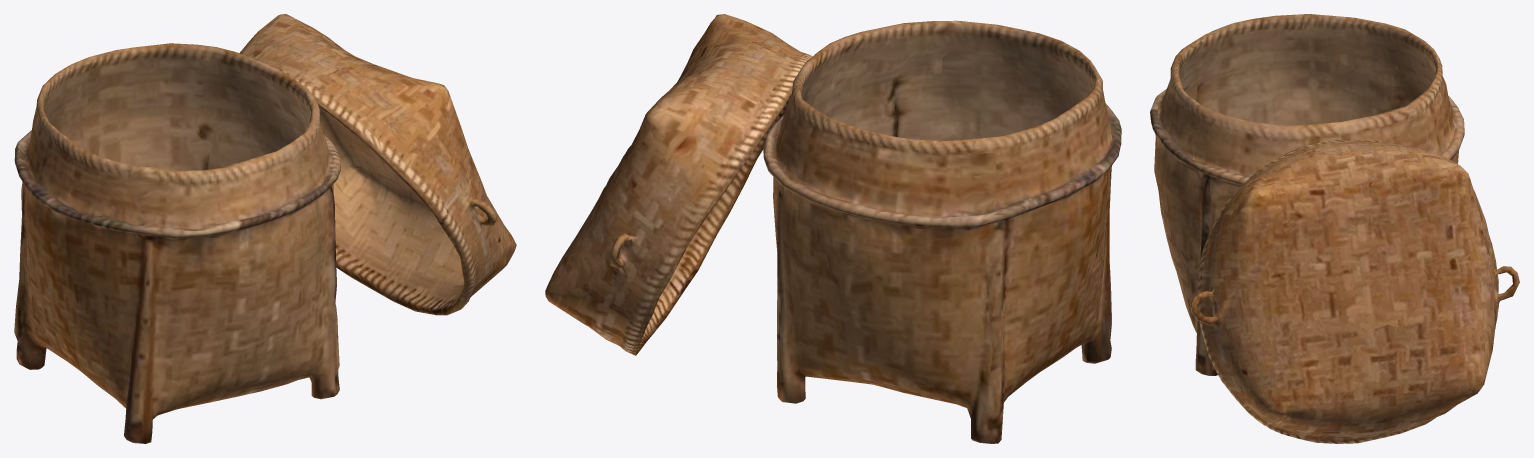
File: wicker_basket_02.glb
3 renders of one model, left to right at view 1: azimuth 30°, elevation 25°; view 2: azimuth 150°, elevation 25°; view 3: azimuth 270°, elevation 25°, orthographic. The views are drawn at different scales.
Visible parts, largest first — view 1: wicker_basket_02_lod0; view 2: wicker_basket_02_lod0; view 3: wicker_basket_02_lod0.
Part boxes in pixels (bbox=[...]): wicker_basket_02_lod0: bbox=[14, 14, 516, 443]; wicker_basket_02_lod0: bbox=[545, 14, 1121, 443]; wicker_basket_02_lod0: bbox=[1150, 14, 1519, 443].
Size of what is drawn, in the model's own units: 0.3466 by 0.2001 by 0.2545.
Materials: 1 (1 with a texture image).
